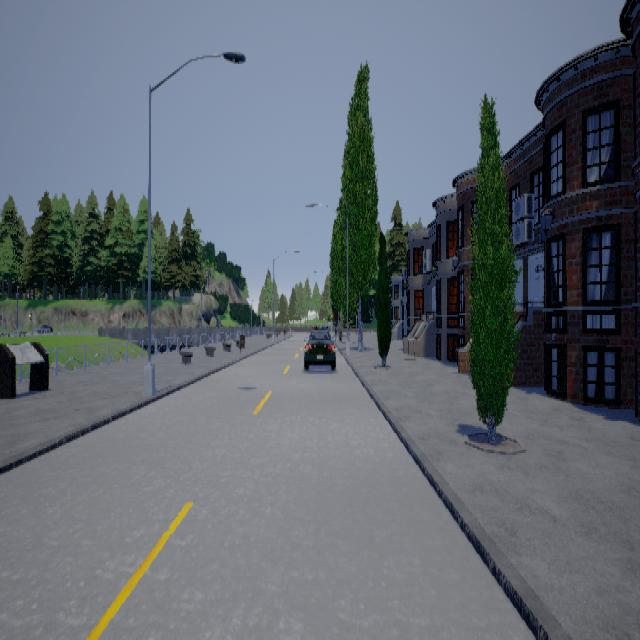vehicle: (303, 325, 335, 369)
